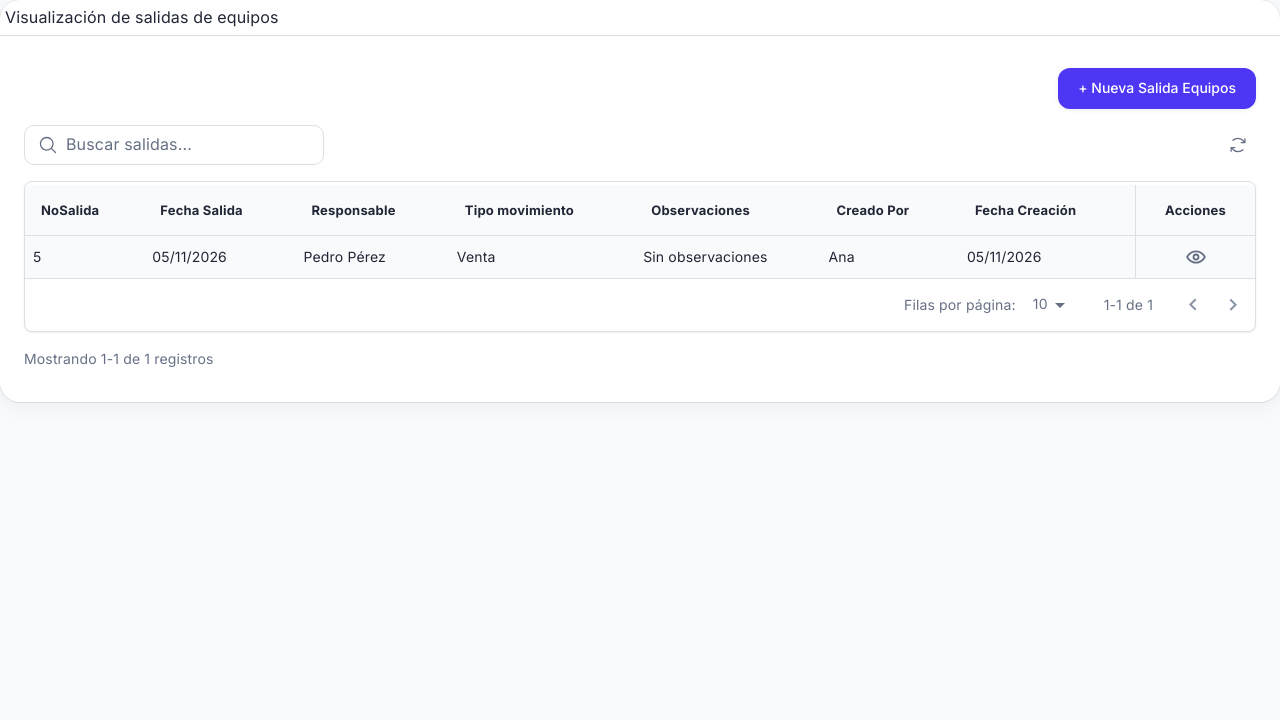
Test: Listado de salidas de equipos › lista, abre el detalle de un movimiento y lo cierra
Expected: the text "Sin observaciones" is shown, left=643, top=248, right=768, bottom=265
Expected: the button "+ Nueva Salida Equipos" is shown, left=1058, top=68, right=1256, bottom=109
Click the 3rd button at (1196, 257), box left=1180, top=242, right=1210, bottom=272
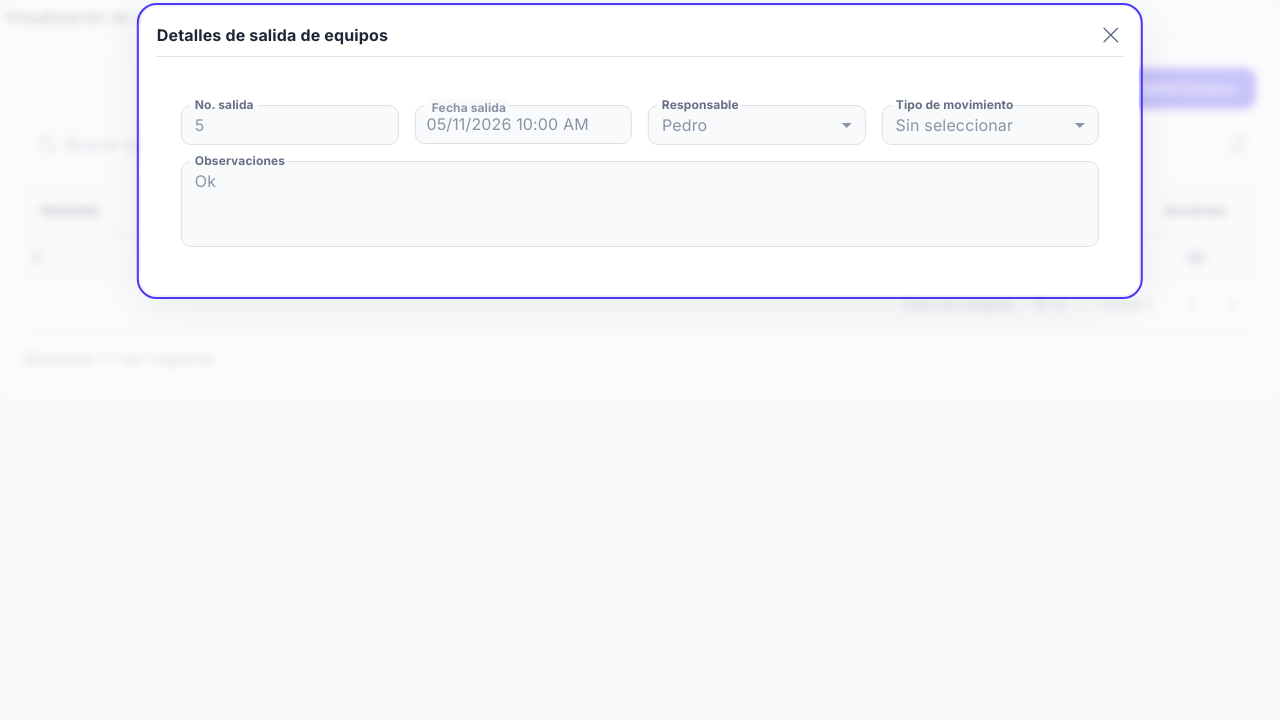
Expected: the heading "Detalles de salida de equipos" is shown, left=157, top=25, right=388, bottom=45
Click the button at (1111, 35), box left=1091, top=15, right=1131, bottom=55
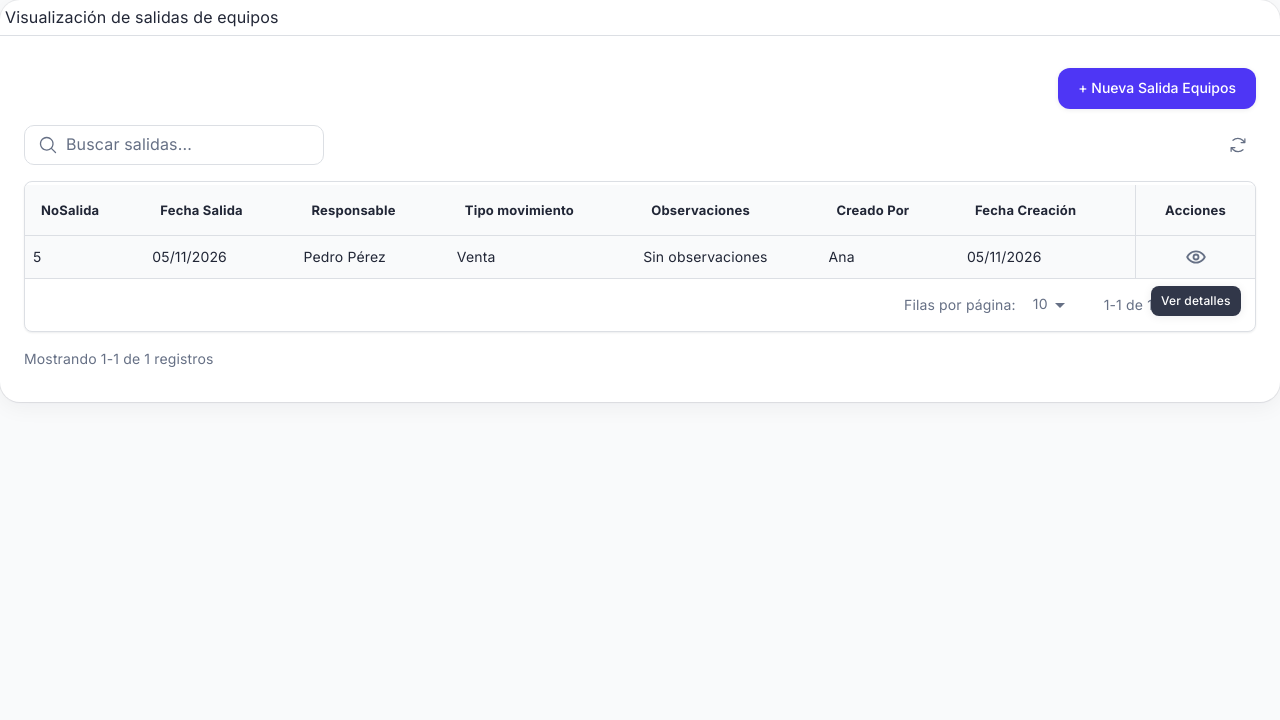
Expected: the heading "Detalles de salida de equipos" is gone
